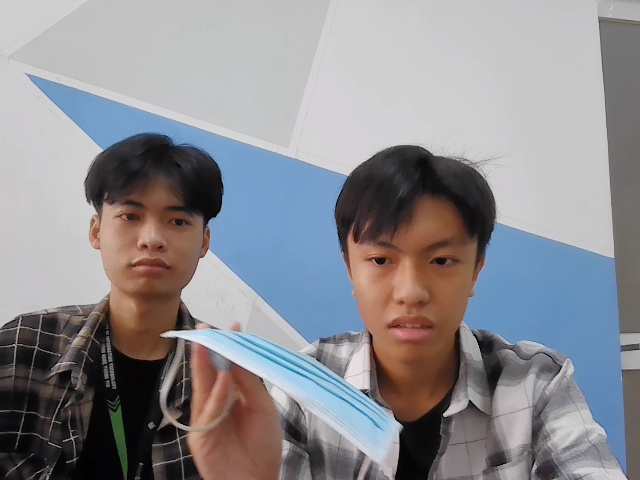human: (326, 131, 501, 357), (87, 124, 221, 302)
mask: (163, 320, 404, 461)
